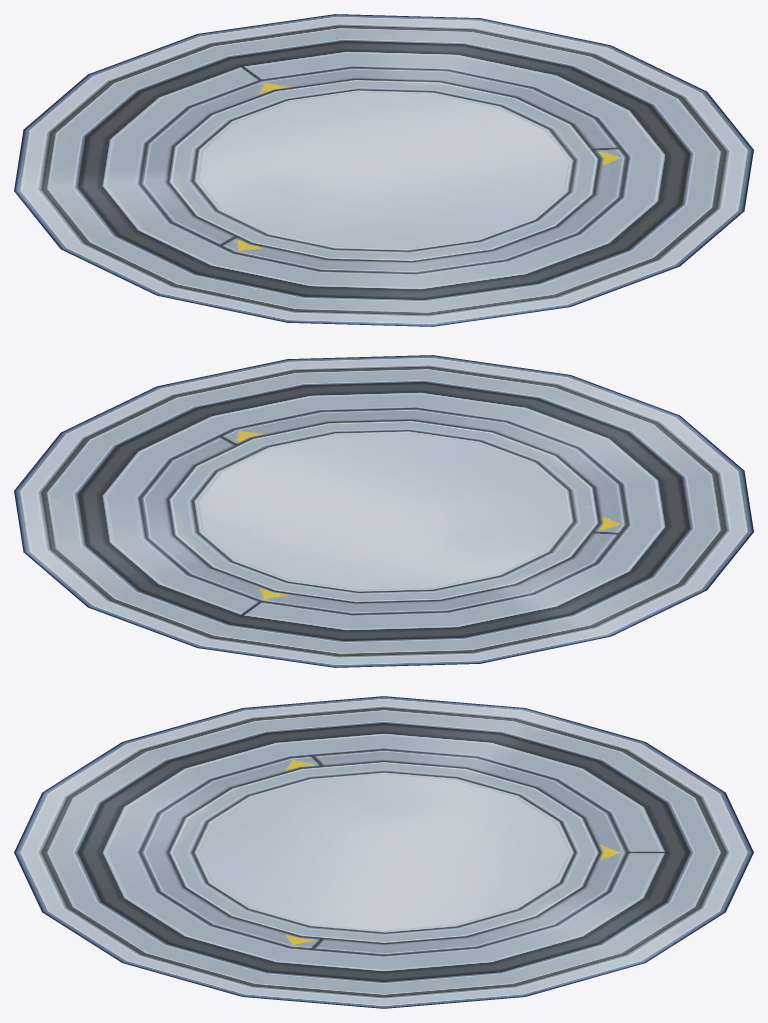
The model's file is my_carrier_01_carpet_07.glb.
3 renders of one model, top to bottom at view 1: azimuth 30°, elevation 25°; view 2: azimuth 150°, elevation 25°; view 3: azimuth 270°, elevation 25°, orthographic.
Parts seen in each view (by area): view 1: my_carrier_01_carpet_07; view 2: my_carrier_01_carpet_07; view 3: my_carrier_01_carpet_07.
Boxes of the visible parts, <box> form: my_carrier_01_carpet_07: <box>14,14,753,326</box>; my_carrier_01_carpet_07: <box>14,355,753,667</box>; my_carrier_01_carpet_07: <box>14,696,753,1008</box>.
Size of the model in its own units: 0.0197 by 3.82e-10 by 0.0197.
Materials: 1 (1 with a texture image).
